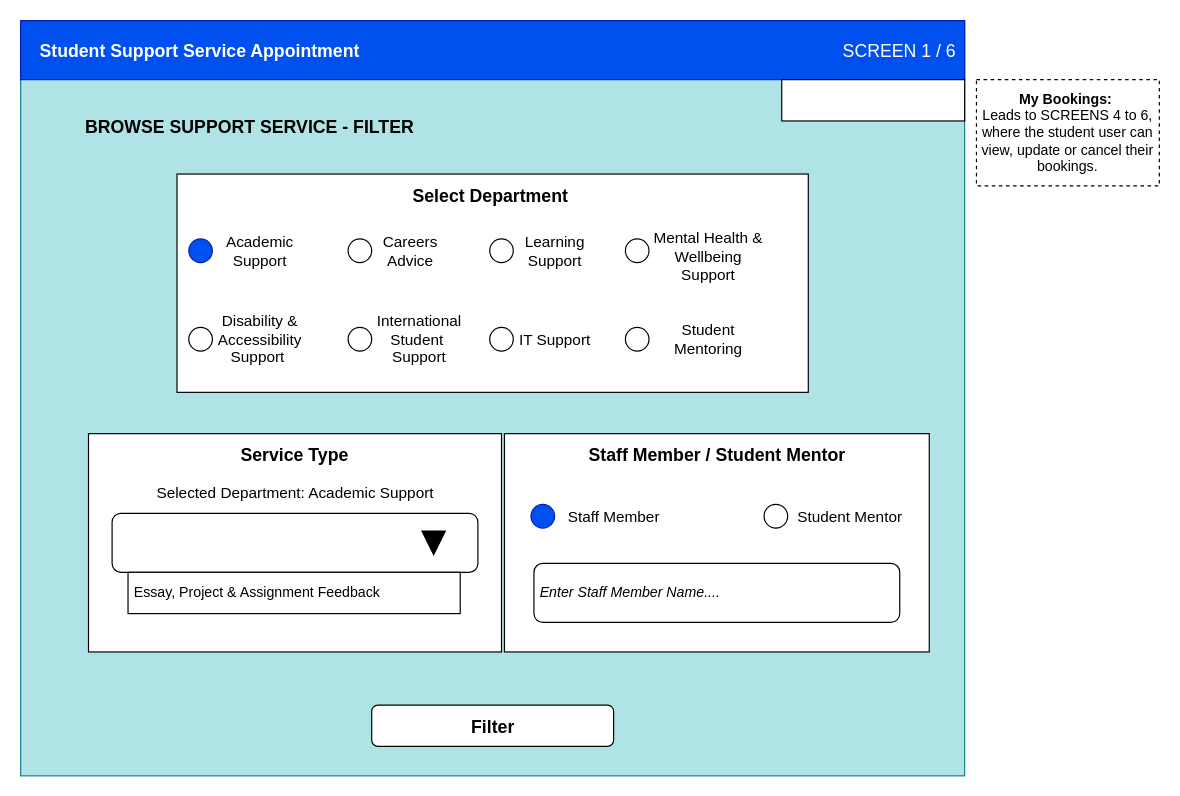
The diagram is 1180 pixels wide and 796 high, and some of its shapes have lost their labels. The centre of each missing label's shape, as x and y in pixels:
Choose a Service Type....: point 294,542
My Bookings: point 873,99
